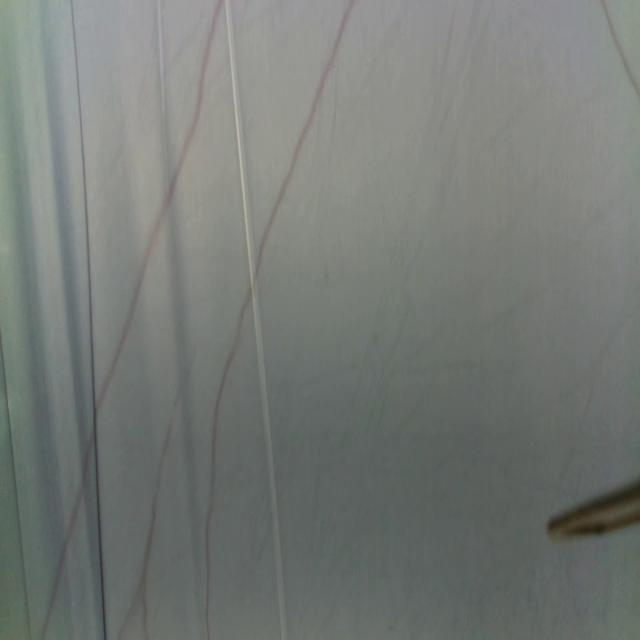crease: (224, 0, 287, 640), (72, 0, 108, 640), (0, 326, 31, 639), (155, 0, 171, 198)
